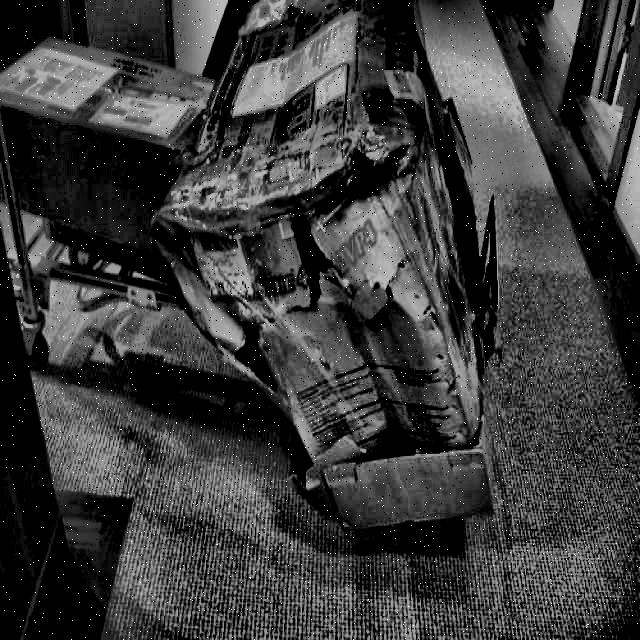box: (135, 0, 505, 550)
hole: (285, 207, 345, 319), (225, 313, 279, 394)
